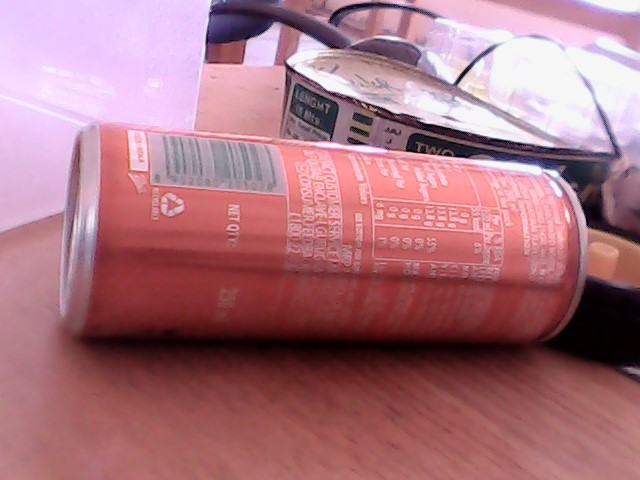Metal: (52, 119, 577, 344)
